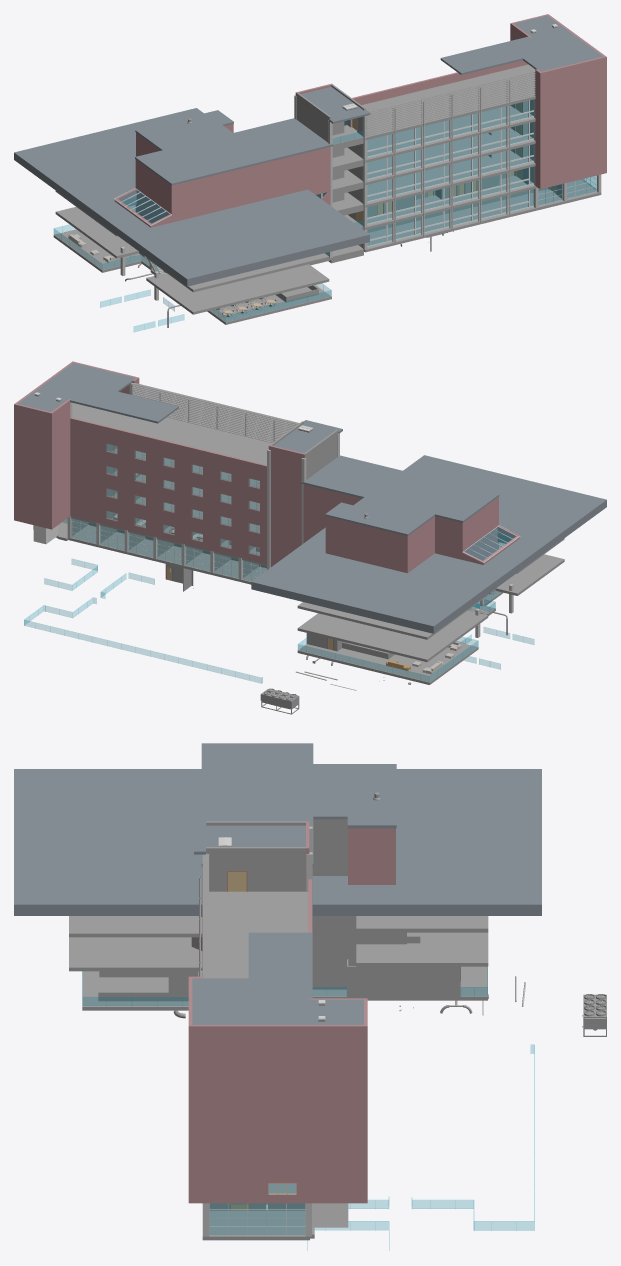
The picture shows the model from 3 angles, top to bottom: view 1: azimuth 30°, elevation 25°; view 2: azimuth 150°, elevation 25°; view 3: azimuth 270°, elevation 25°; orthographic projection. The views are drawn at different scales.
Parts seen in each view (by area): view 1: 2KfpxTSnH0xfEb1Txf7ZtR, 29cnUmuJX57htVvJIbDXaC, 08f4t_E$rBBQFcxLfljANY, 0vmpfXygz7uuHDQdlxqLtB, 2KfpxTSnH0xfEb1Txf7ZoX, 0A_uwLmzDFwxF1KgW45KZ9, 08f4t_E$rBBQFcvLzljACh, 0A_uwLmzDFwxF1KgW45Kgt, 1j1L$VHiTCbAyTGLxsGpz4, 1j1L$VHiTCbAyTGLxsGp$w, 1j1L$VHiTCbAyTGLxsGp_e, 08f4t_E$rBBQFcvLvljACh (+22 smaller); view 2: 2KfpxTSnH0xfEb1Txf7ZtR, 29cnUmuJX57htVvJIbDXaC, 08f4t_E$rBBQFcxLfljANY, 2KfpxTSnH0xfEb1Txf7ZoX, 2N8Cd2RGP5i9wScacjj2zY, 2N8Cd2RGP5i9wScawjj2zY, 2N8Cd2RGP5i9wScagjj2zY, 1j1L$VHiTCbAyTGLxsGpwN, 0vmpfXygz7uuHDQdlxqLtB, 0A_uwLmzDFwxF1KgW45Kgt, 0A_uwLmzDFwxF1KgW45KZ9, 2N8Cd2RGP5i9wSca_jj2zY (+29 smaller); view 3: 2KfpxTSnH0xfEb1Txf7ZtR, 29cnUmuJX57htVvJIbDXaC, 2KfpxTSnH0xfEb1Txf7ZoX, 08f4t_E$rBBQFcxLfljANY, 0A_uwLmzDFwxF1Mgu45LRu, 0A_uwLmzDFwxF1Mge45LRu, 1j1L$VHiTCbAyTGLxsGpwN, 0A_uwLmzDFwxF1Mgq45LRu, 0A_uwLmzDFwxF1Mga45LRu, 1pxIWsdLL5Ie6o6iDfZA09, 0A_uwLmzDFwxF1KgW45Kgt, 0A_uwLmzDFwxF1Mgm45LRu (+20 smaller).
Part boxes in pixels (x1,y1,x2,y2): 2KfpxTSnH0xfEb1Txf7ZtR: [14, 108, 369, 286]; 29cnUmuJX57htVvJIbDXaC: [135, 110, 333, 185]; 08f4t_E$rBBQFcxLfljANY: [55, 207, 329, 314]; 0vmpfXygz7uuHDQdlxqLtB: [366, 70, 535, 137]; 2KfpxTSnH0xfEb1Txf7ZoX: [440, 15, 603, 74]; 0A_uwLmzDFwxF1KgW45KZ9: [364, 179, 601, 252]; 08f4t_E$rBBQFcvLzljACh: [174, 147, 330, 206]; 0A_uwLmzDFwxF1KgW45Kgt: [53, 229, 331, 324]; 1j1L$VHiTCbAyTGLxsGpz4: [365, 105, 535, 162]; 1j1L$VHiTCbAyTGLxsGp$w: [365, 128, 535, 185]; 1j1L$VHiTCbAyTGLxsGp_e: [365, 150, 535, 207]; 08f4t_E$rBBQFcvLvljACh: [174, 169, 330, 221]; 2KfpxTSnH0xfEb1Txf7ZtR: [251, 455, 606, 633]; 29cnUmuJX57htVvJIbDXaC: [301, 455, 499, 536]; 08f4t_E$rBBQFcxLfljANY: [297, 554, 564, 662]; 2KfpxTSnH0xfEb1Txf7ZoX: [17, 362, 178, 423]; 2N8Cd2RGP5i9wScacjj2zY: [70, 471, 266, 541]; 2N8Cd2RGP5i9wScawjj2zY: [70, 427, 266, 496]; 2N8Cd2RGP5i9wScagjj2zY: [70, 494, 266, 564]; 1j1L$VHiTCbAyTGLxsGpwN: [72, 403, 271, 464]; 0vmpfXygz7uuHDQdlxqLtB: [131, 383, 299, 442]; 0A_uwLmzDFwxF1KgW45Kgt: [297, 590, 503, 684]; 0A_uwLmzDFwxF1KgW45KZ9: [56, 518, 266, 584]; 2N8Cd2RGP5i9wSca_jj2zY: [70, 449, 266, 511]; 2KfpxTSnH0xfEb1Txf7ZtR: [14, 769, 541, 915]; 29cnUmuJX57htVvJIbDXaC: [201, 743, 396, 866]; 2KfpxTSnH0xfEb1Txf7ZoX: [192, 932, 363, 1024]; 08f4t_E$rBBQFcxLfljANY: [69, 932, 488, 971]; 0A_uwLmzDFwxF1Mgu45LRu: [188, 1029, 363, 1066]; 0A_uwLmzDFwxF1Mge45LRu: [188, 1135, 363, 1169]; 1j1L$VHiTCbAyTGLxsGpwN: [209, 891, 308, 978]; 0A_uwLmzDFwxF1Mgq45LRu: [188, 1067, 363, 1100]; 0A_uwLmzDFwxF1Mga45LRu: [188, 1169, 363, 1203]; 1pxIWsdLL5Ie6o6iDfZA09: [69, 916, 488, 937]; 0A_uwLmzDFwxF1KgW45Kgt: [82, 966, 487, 1010]; 0A_uwLmzDFwxF1Mgm45LRu: [188, 1101, 363, 1123].
Bounding box in the file's own units: 81.59 × 29.07 × 57.62.
